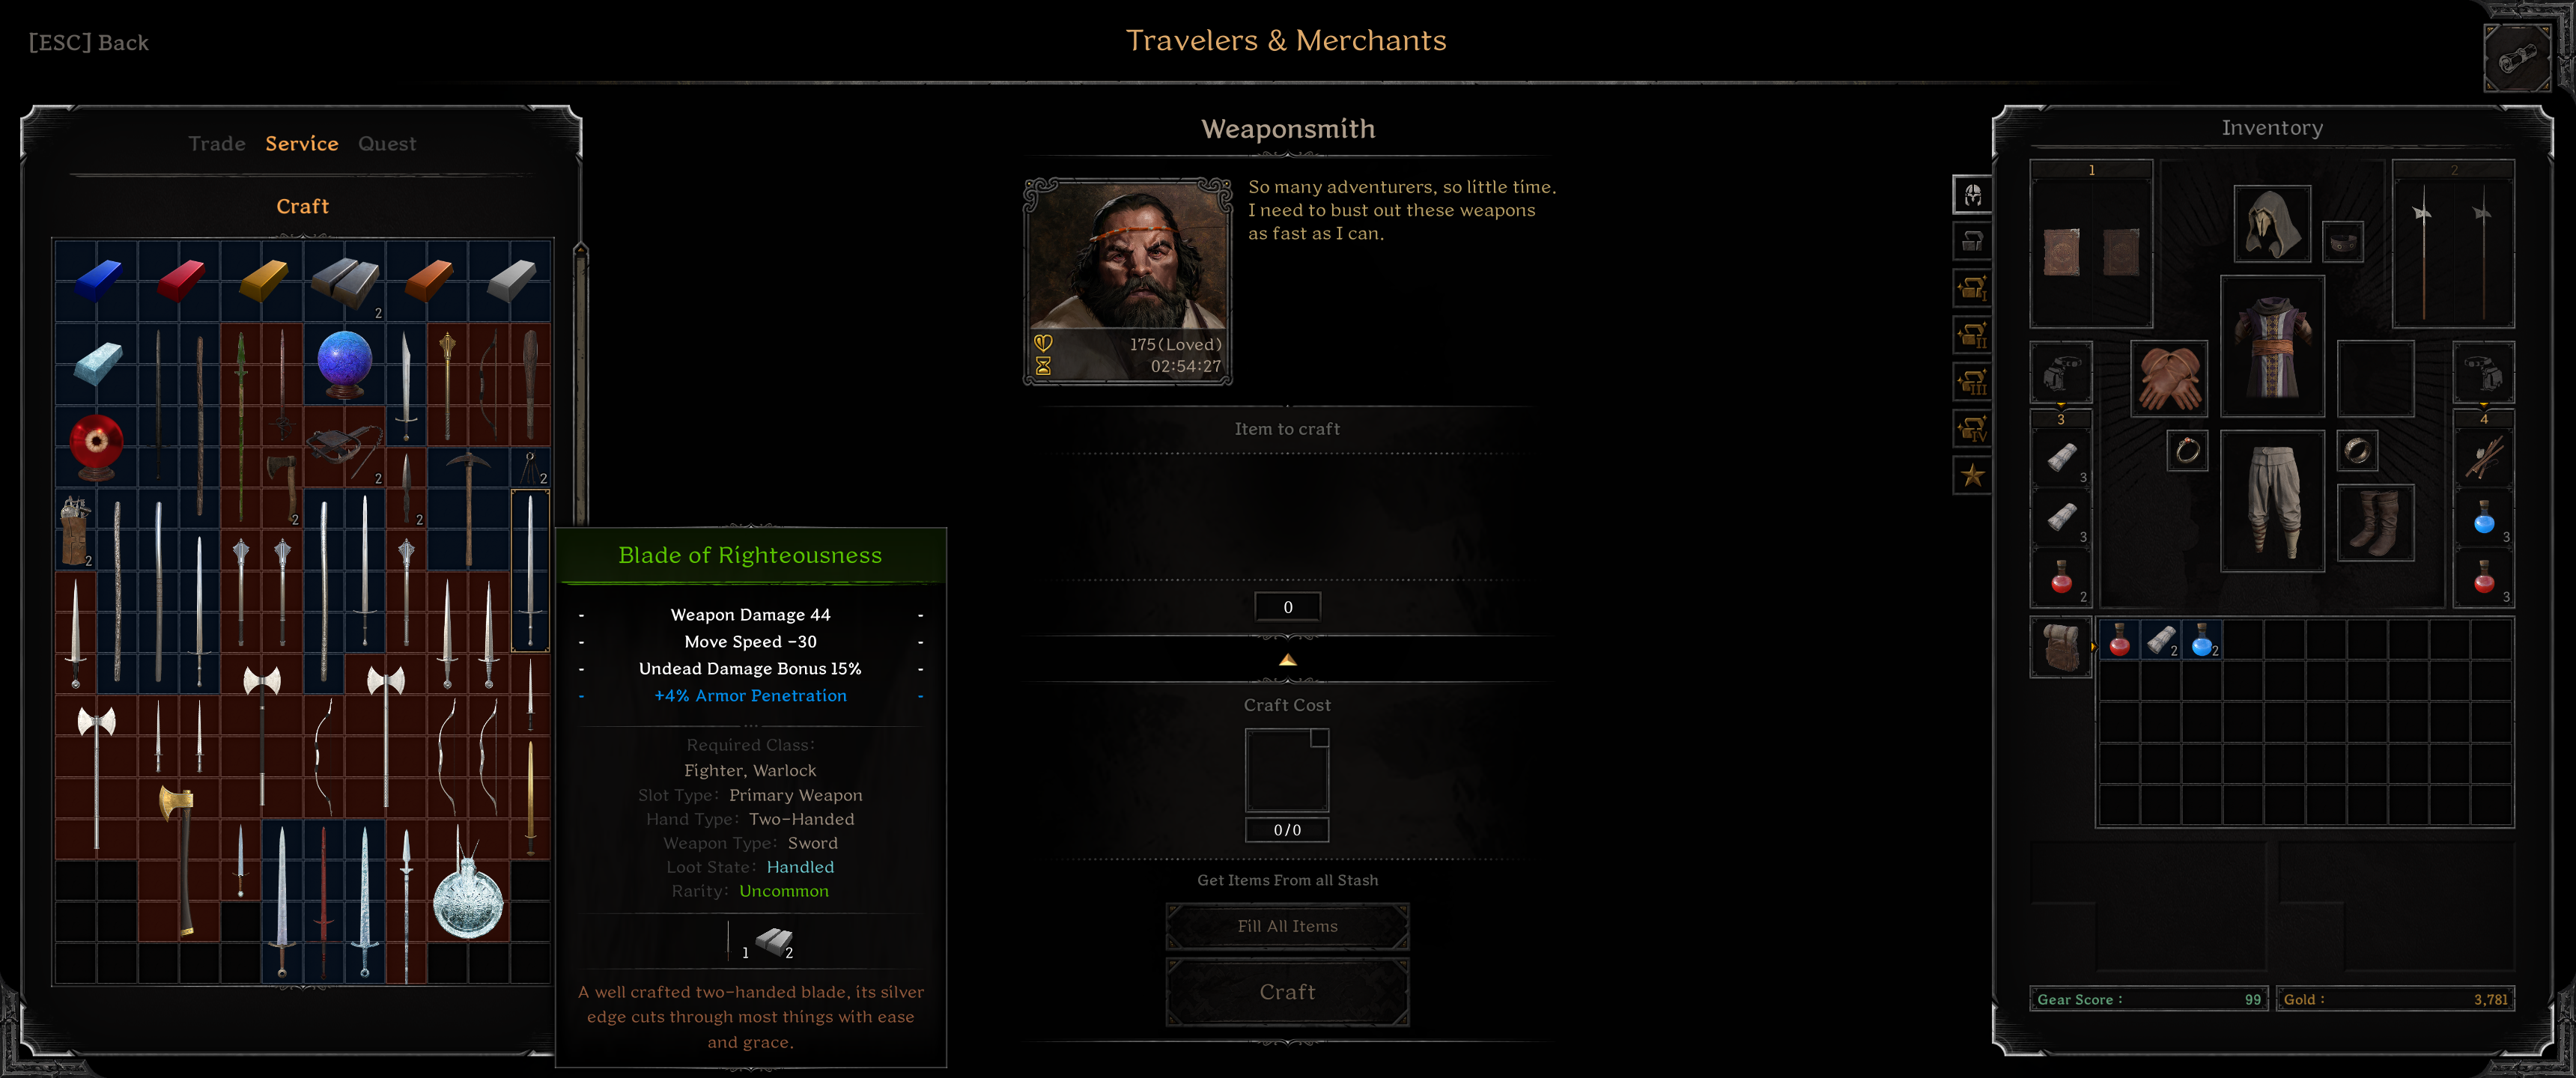Tooltip: (554, 526, 950, 1070)
